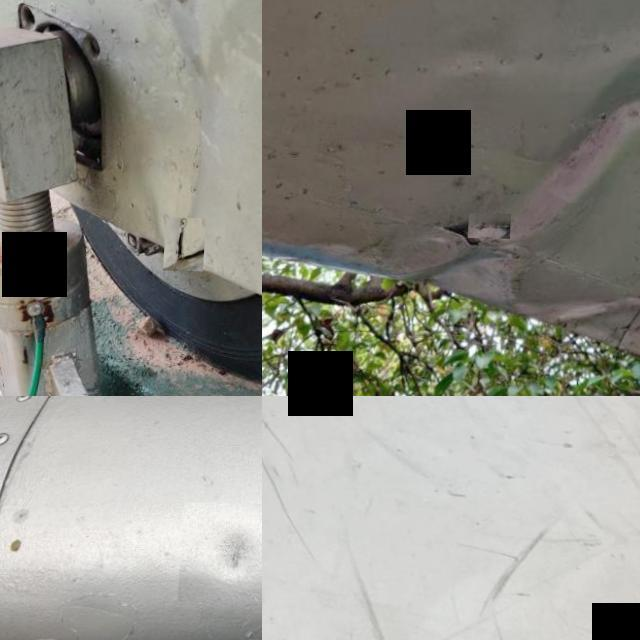Crack: (168, 217, 212, 270), (473, 212, 516, 237)
Dent: (513, 0, 640, 271), (183, 500, 262, 603)
